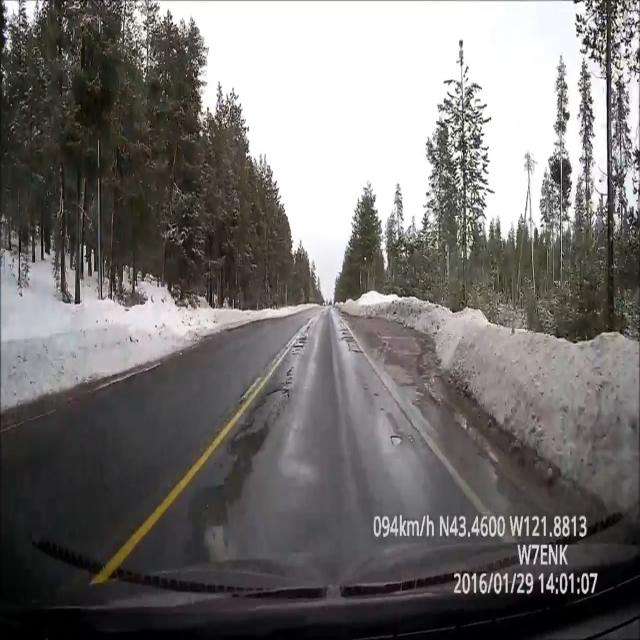Pothole: (232, 371, 304, 444), (339, 322, 368, 356), (293, 326, 310, 364)
